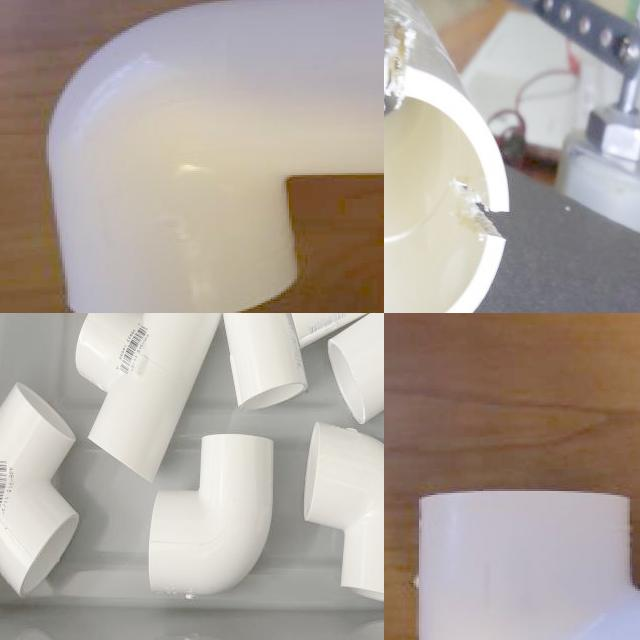Defective: (384, 0, 418, 119), (461, 186, 511, 241)
L Joint: (414, 491, 640, 640), (147, 435, 276, 599), (0, 383, 81, 593), (304, 422, 384, 603)
T Joint: (76, 313, 222, 482)
